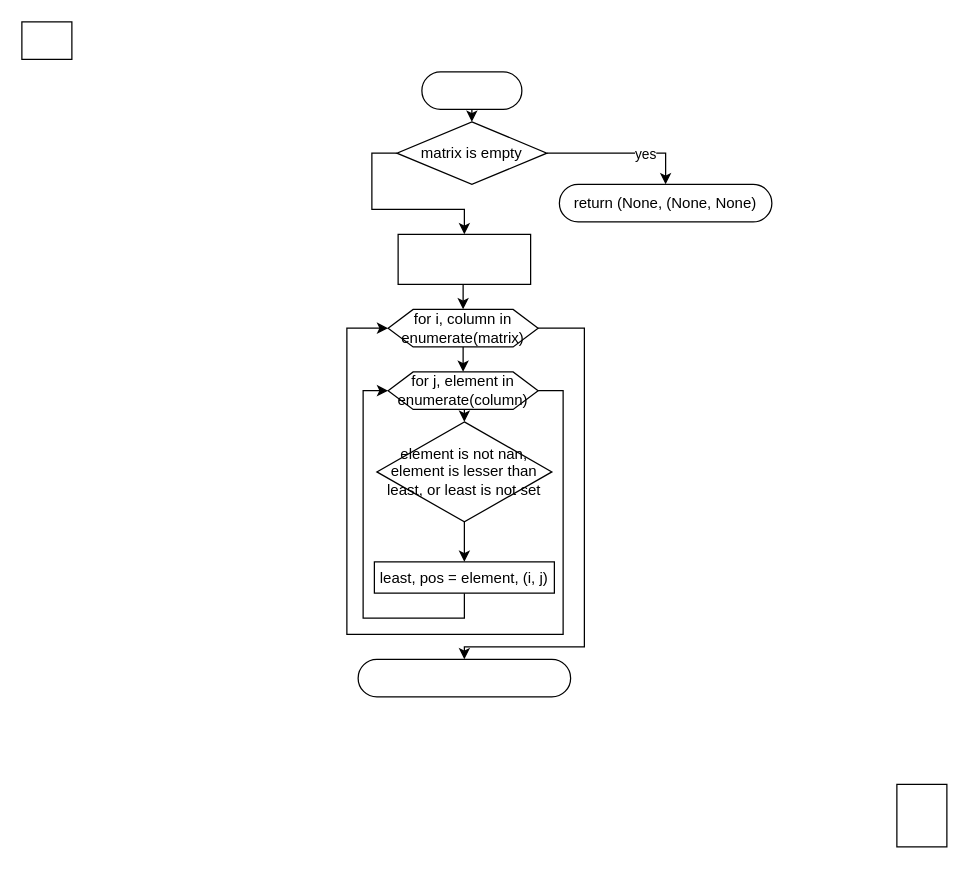
The diagram is 969 pixels wide and 869 high, and some of its shapes have lost their labels. The shapes that lost their labels are listed below. From the top down, each one's box as (x1, y1, x2, y2) in pixels, then its label:
(421, 71, 522, 109): min_matrix
(397, 233, 531, 284): least, pos = None, (None, None)
(357, 658, 571, 697): return least, pos
